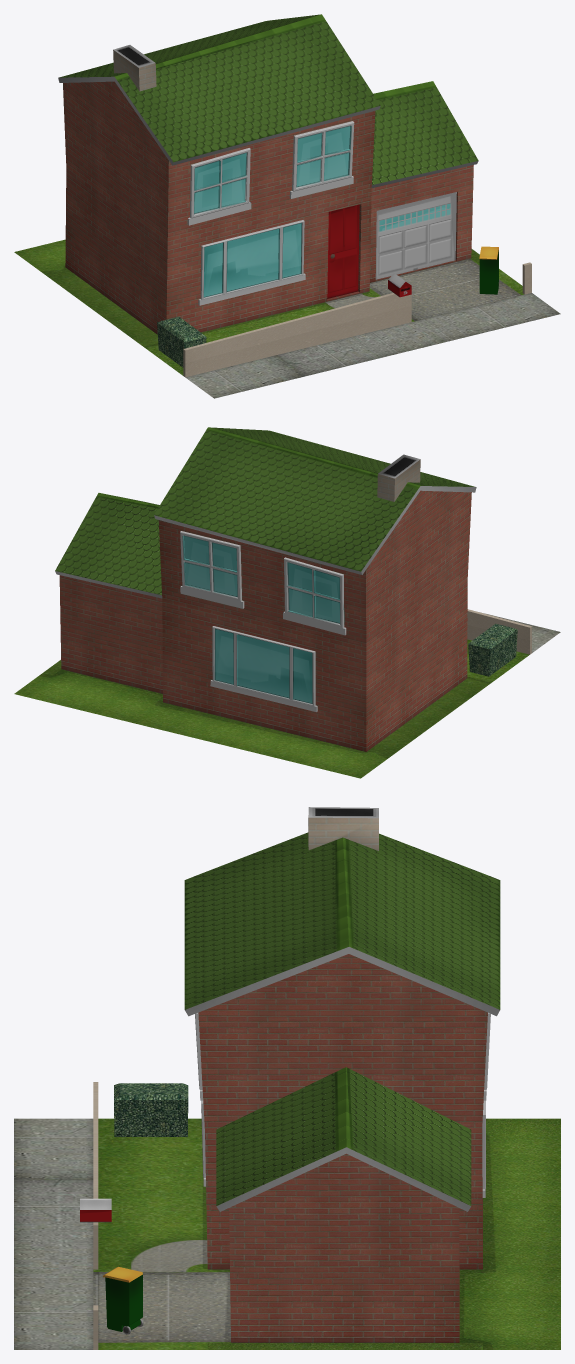
Rendered from Suburban Home A.fbx.
3 renders of one model, top to bottom at view 1: azimuth 30°, elevation 25°; view 2: azimuth 150°, elevation 25°; view 3: azimuth 270°, elevation 25°, orthographic. The views are drawn at different scales.
Visible parts, largest first — view 1: surbuban home; view 2: surbuban home; view 3: surbuban home.
Boxes of the visible parts, bbox=[...] form: surbuban home: bbox=[14, 14, 560, 398]; surbuban home: bbox=[14, 427, 560, 778]; surbuban home: bbox=[14, 807, 560, 1349].
Bounding box in the file's own units: 10 × 6.74 × 10.
Materials: 1 (1 with a texture image).
